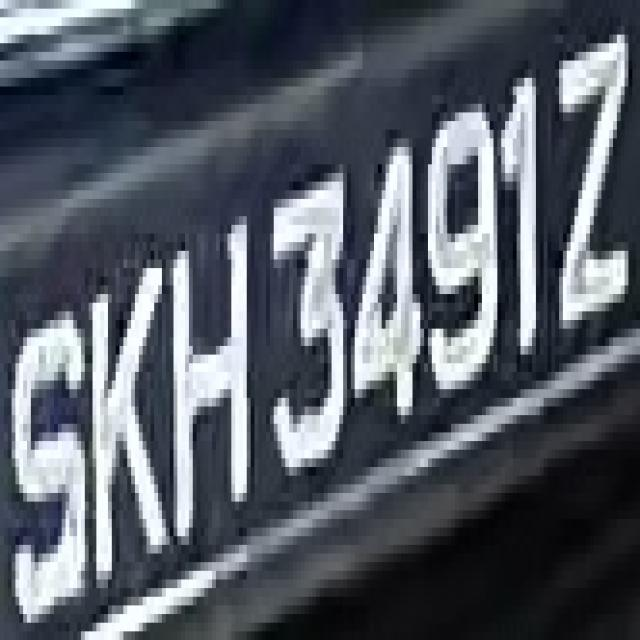1: (497, 60, 544, 372)
3: (250, 156, 350, 484)
4: (339, 121, 432, 433)
9: (409, 104, 501, 406)
H: (150, 225, 254, 536)
K: (85, 225, 162, 579)
S: (8, 276, 85, 622)
Z: (540, 17, 632, 346)
